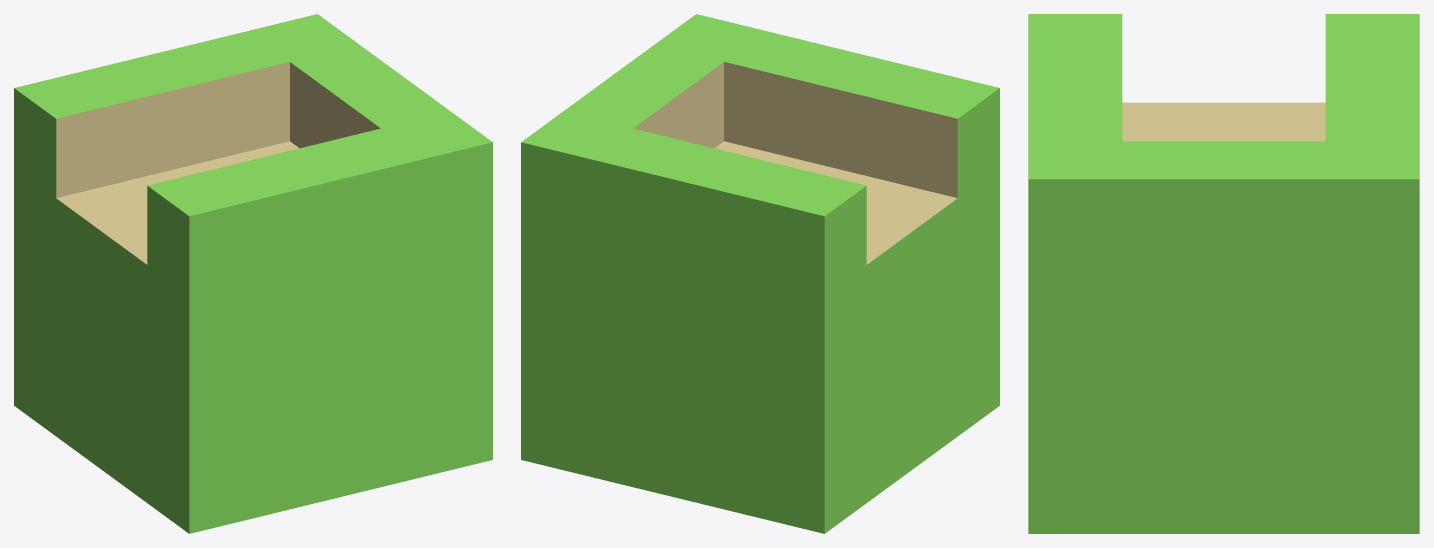
File: path-end-rear.glb
3 renders of one model, left to right at view 1: azimuth 30°, elevation 25°; view 2: azimuth 150°, elevation 25°; view 3: azimuth 270°, elevation 25°, orthographic. The views are drawn at different scales.
Visible parts, largest first — view 1: Base.003; view 2: Base.003; view 3: Base.003.
Part boxes in pixels (<box>): Base.003: <box>14,14,492,533</box>; Base.003: <box>521,14,999,533</box>; Base.003: <box>1028,14,1419,533</box>.
Size of the model in its own units: 2 by 2 by 2.
